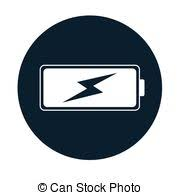charging sign: (35, 60, 151, 116)
